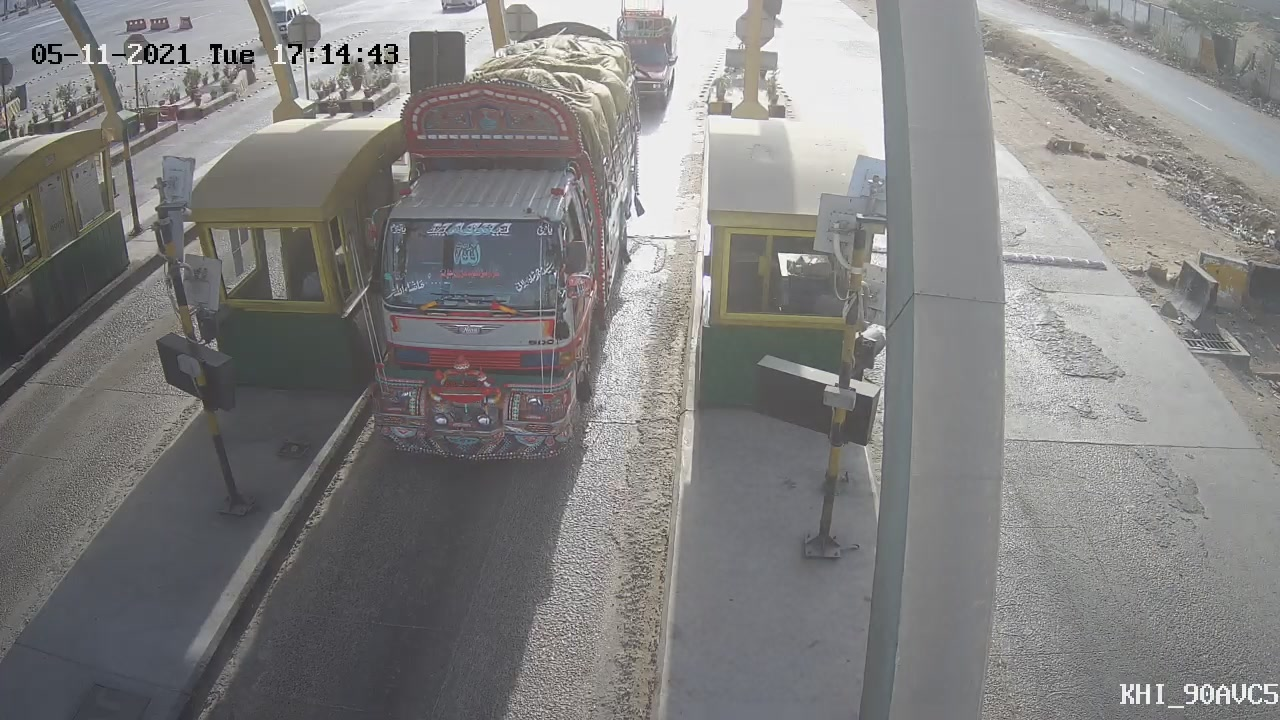F5: (312, 7, 669, 494)
